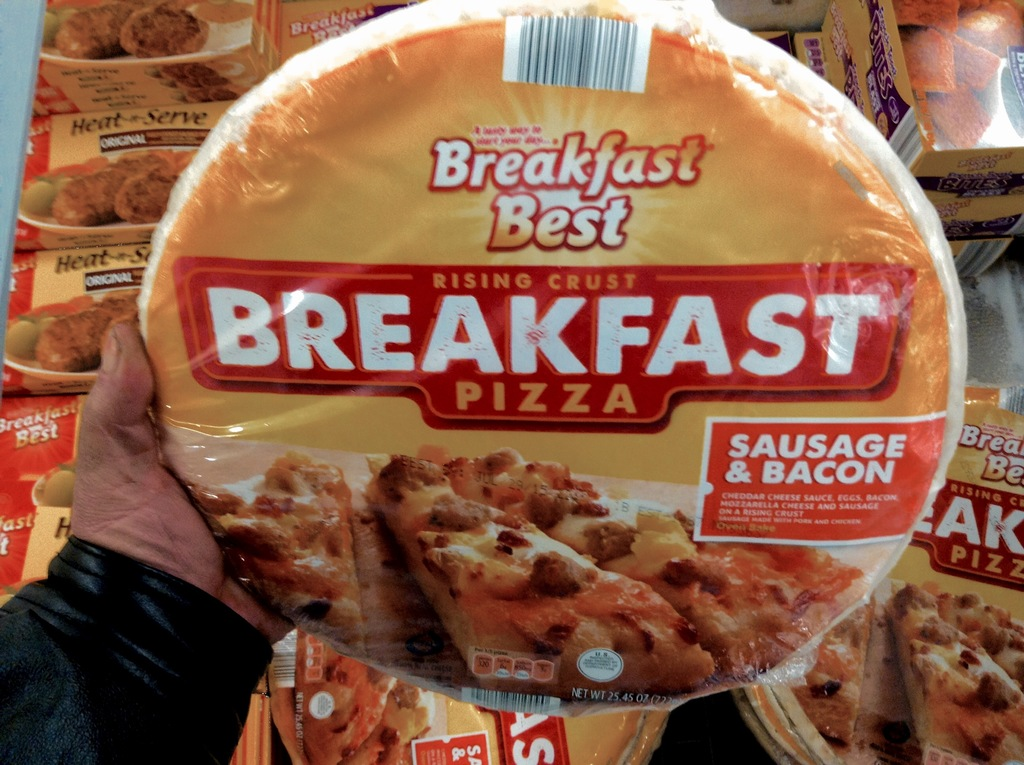Pizza: (447, 424, 862, 685), (216, 436, 454, 674), (886, 576, 1023, 764), (788, 599, 879, 748)
